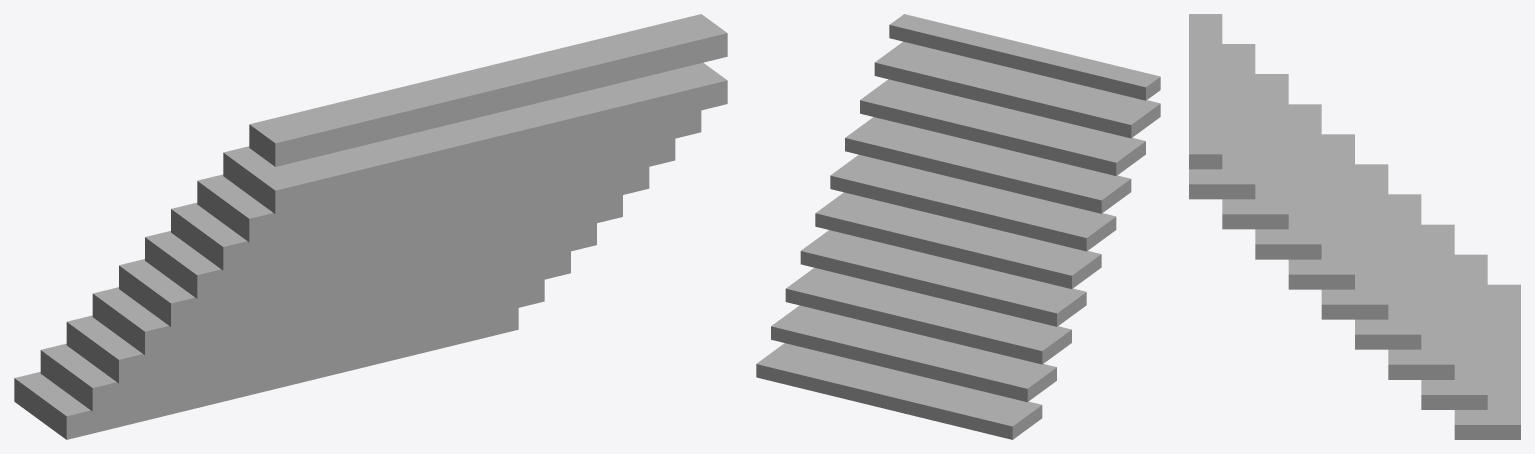
The model's file is stair 20x.obj.
3 views of the same model, side by side, from view 1: azimuth 30°, elevation 25°; view 2: azimuth 150°, elevation 25°; view 3: azimuth 270°, elevation 25° (orthographic). The views are drawn at different scales.
Visible parts, largest first — view 1: stair 20x; view 2: stair 20x; view 3: stair 20x.
Part boxes in pixels (x1,y1,x2,y2): stair 20x: (14,14,727,439); stair 20x: (756,14,1160,439); stair 20x: (1189,14,1520,439).
Size of the model in its own units: 20 by 19 by 20.
Materials: 1 (1 with a texture image).
